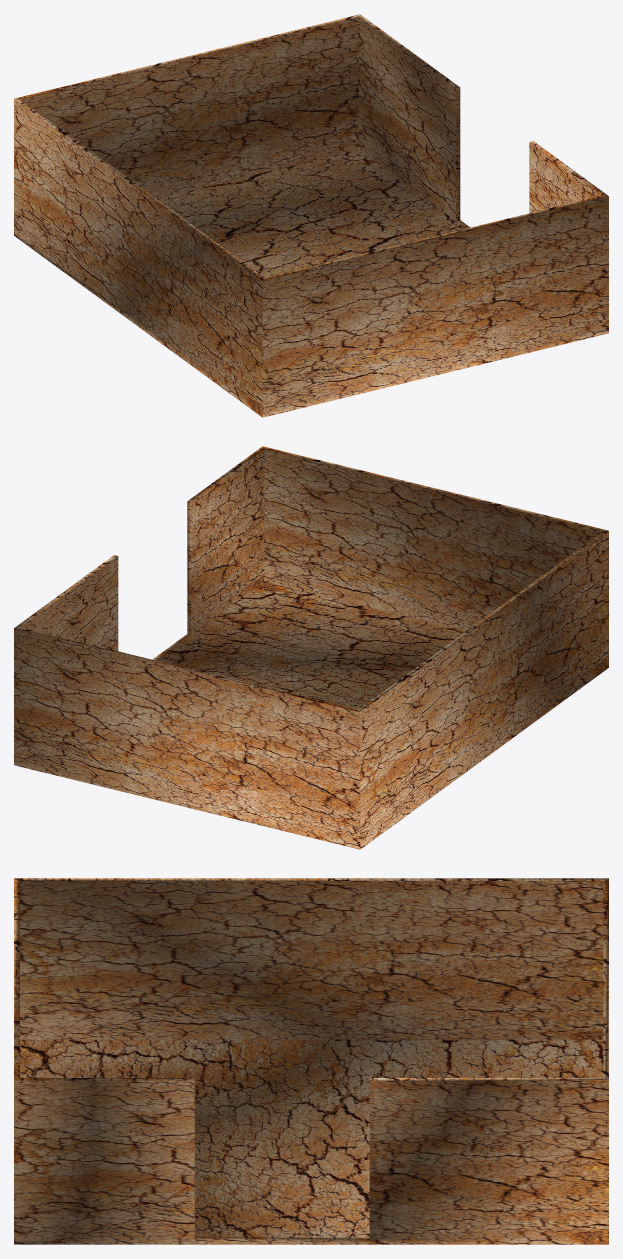
File: Nodo5.obj
3 views of the same model, one above another, from view 1: azimuth 30°, elevation 25°; view 2: azimuth 150°, elevation 25°; view 3: azimuth 270°, elevation 25° (orthographic). The views are drawn at different scales.
Parts seen in each view (by area): view 1: Nodo035; view 2: Nodo035; view 3: Nodo035.
Boxes of the visible parts, x1,y1,x2,y2 form: Nodo035: (14,14,608,417); Nodo035: (14,446,608,849); Nodo035: (14,878,608,1244).
Bounding box in the file's own units: 323 × 122 × 402.
